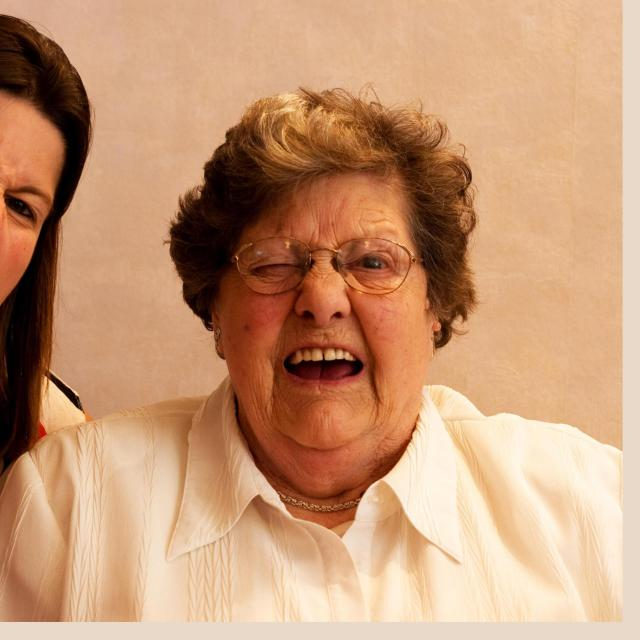no-glass: (238, 247, 408, 282)
